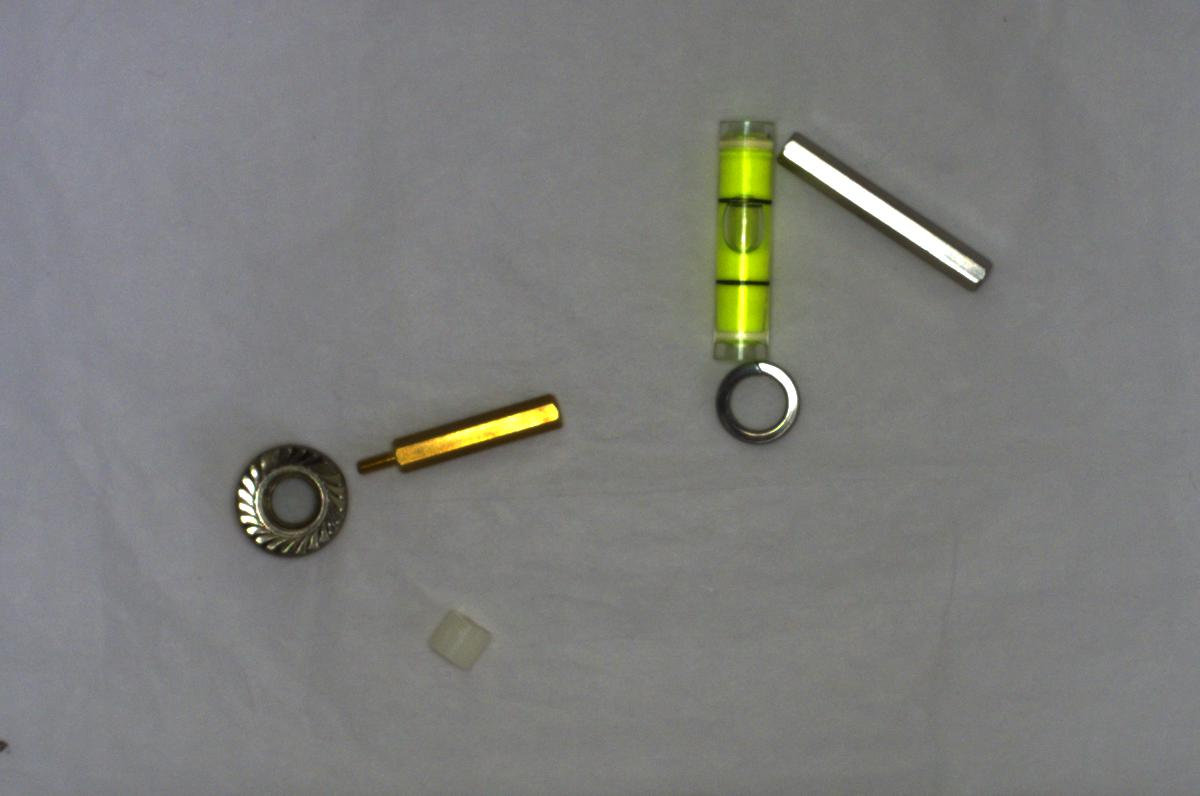Double hexagonal column: (771, 123, 993, 289)
Flange nut: (226, 438, 360, 565)
Hexagon pillar: (357, 392, 567, 475)
Horizontal bubble: (698, 112, 794, 372)
Plastic cushion pillar: (418, 601, 502, 678)
Spring washer: (707, 358, 801, 446)
